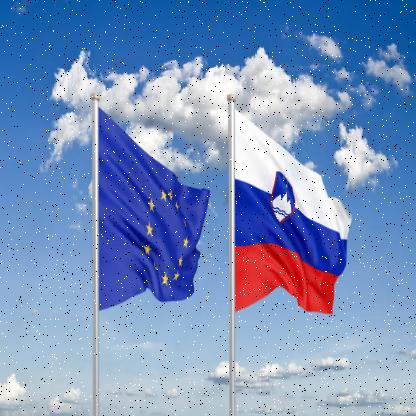si: (235, 108, 354, 317)
